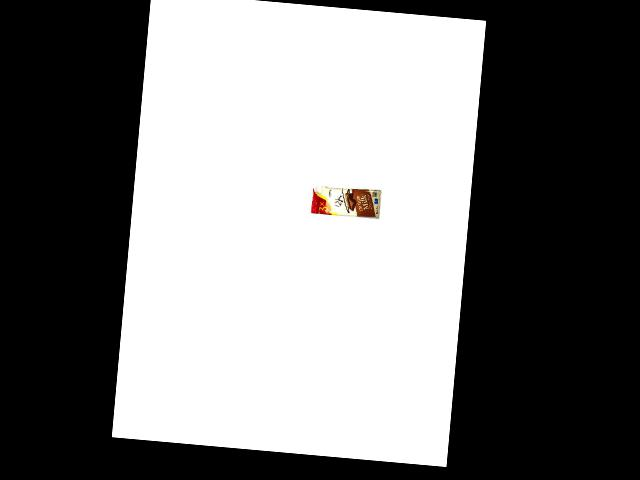chocolate: (309, 182, 380, 221)
